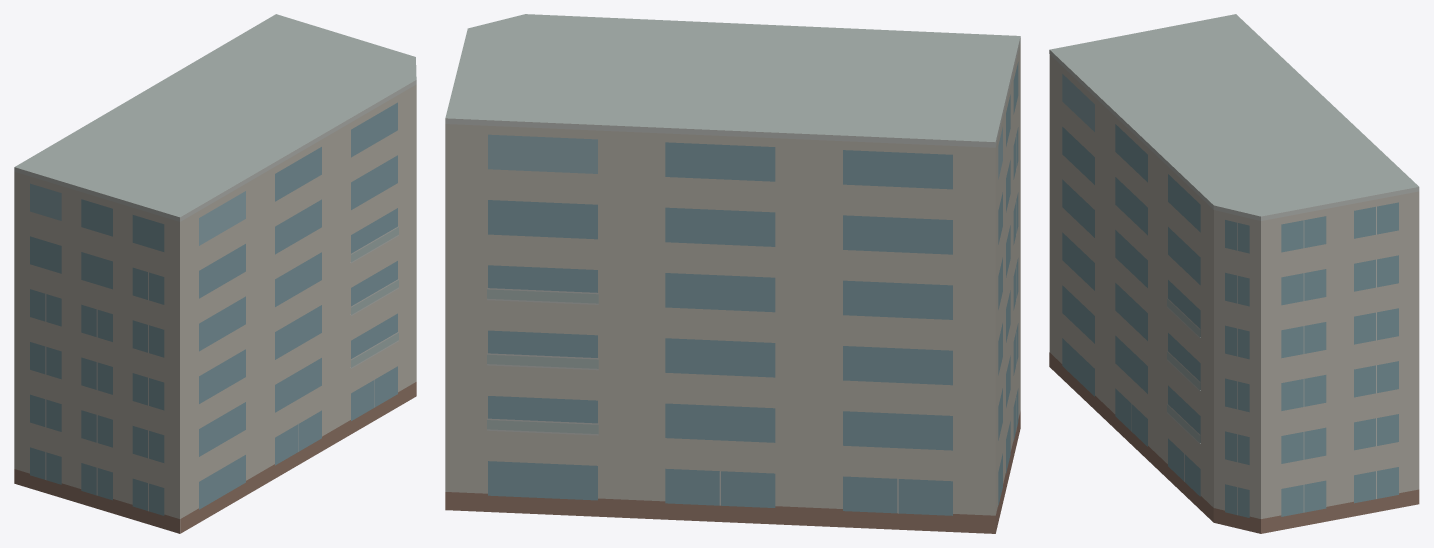
Rendered from survey-upis-32542703.glb.
3 renders of one model, left to right at view 1: azimuth 30°, elevation 25°; view 2: azimuth 150°, elevation 25°; view 3: azimuth 270°, elevation 25°, orthographic. The views are drawn at different scales.
Visible parts, largest first — view 1: survey-upis-32542703.tmp; view 2: survey-upis-32542703.tmp; view 3: survey-upis-32542703.tmp.
Part boxes in pixels (x1,y1,x2,y2): survey-upis-32542703.tmp: (14, 14, 416, 533); survey-upis-32542703.tmp: (445, 14, 1020, 533); survey-upis-32542703.tmp: (1049, 14, 1419, 533).
Size of the model in its own units: 23.28 by 17 by 17.96.
